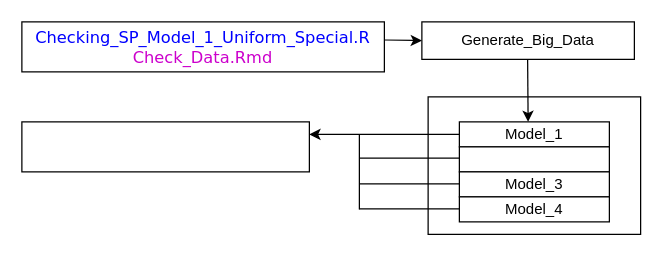
Some shapes in this 663 by 256 pixel diagram are drawn without their labels. The box of each missing label's shape, as (x1, y1, x2, y2) in pixels:
Model_2: (458, 146, 609, 172)
No_Correlated_Covariate.RData: (21, 121, 309, 172)
